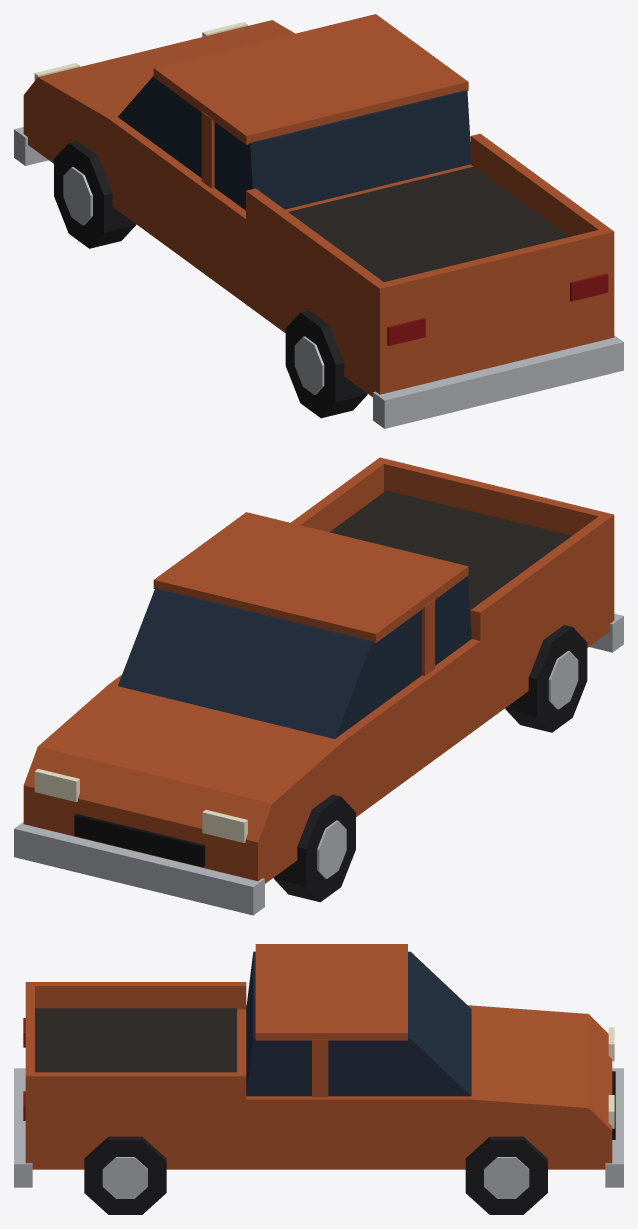
Rendered from CarPickupRust.obj.
3 renders of one model, top to bottom at view 1: azimuth 30°, elevation 25°; view 2: azimuth 150°, elevation 25°; view 3: azimuth 270°, elevation 25°, orthographic. The views are drawn at different scales.
Parts seen in each view (by area): view 1: CarPickupRust; view 2: CarPickupRust; view 3: CarPickupRust.
Boxes of the visible parts, x1,y1,x2,y2 form: CarPickupRust: (14,14,623,428); CarPickupRust: (14,457,623,915); CarPickupRust: (14,944,623,1214).
Bounding box in the file's own units: 2.07 × 1.65 × 5.2.
Materials: 1 (1 with a texture image).
